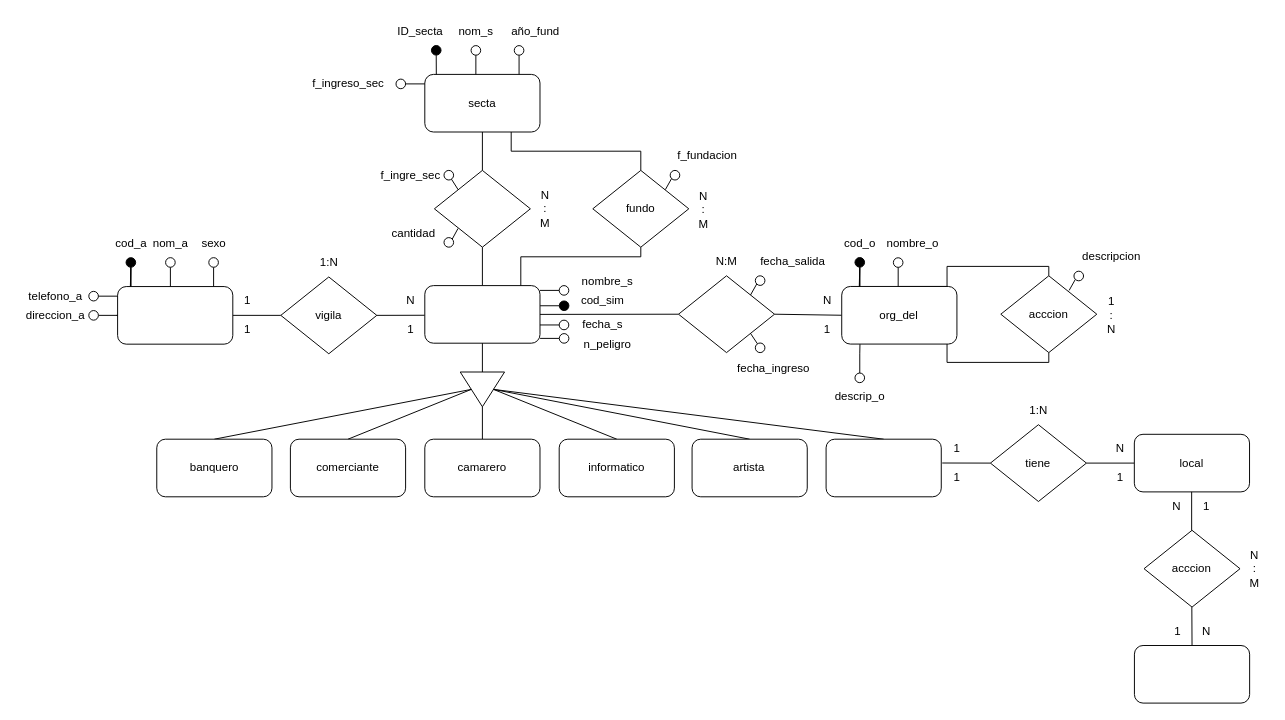
Image size: 1285x720. Some labels were removed from this diagram. Here are the shapes that lost their labels. From the top down, the centre of each, then its label:
(x=481, y=208): es_miembro
(x=175, y=315): agente
(x=482, y=314): simpatizante
(x=726, y=314): pertenece
(x=883, y=467): dueño_b
(x=1191, y=674): bebida
